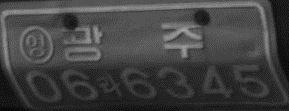0: (27, 70, 62, 104)
3: (158, 66, 196, 100)
4: (199, 64, 233, 99)
5: (234, 63, 268, 99)
6: (63, 68, 97, 101), (122, 69, 157, 99)
광주_D: (60, 23, 204, 62)
라: (98, 70, 121, 97)
영: (19, 25, 54, 65)
